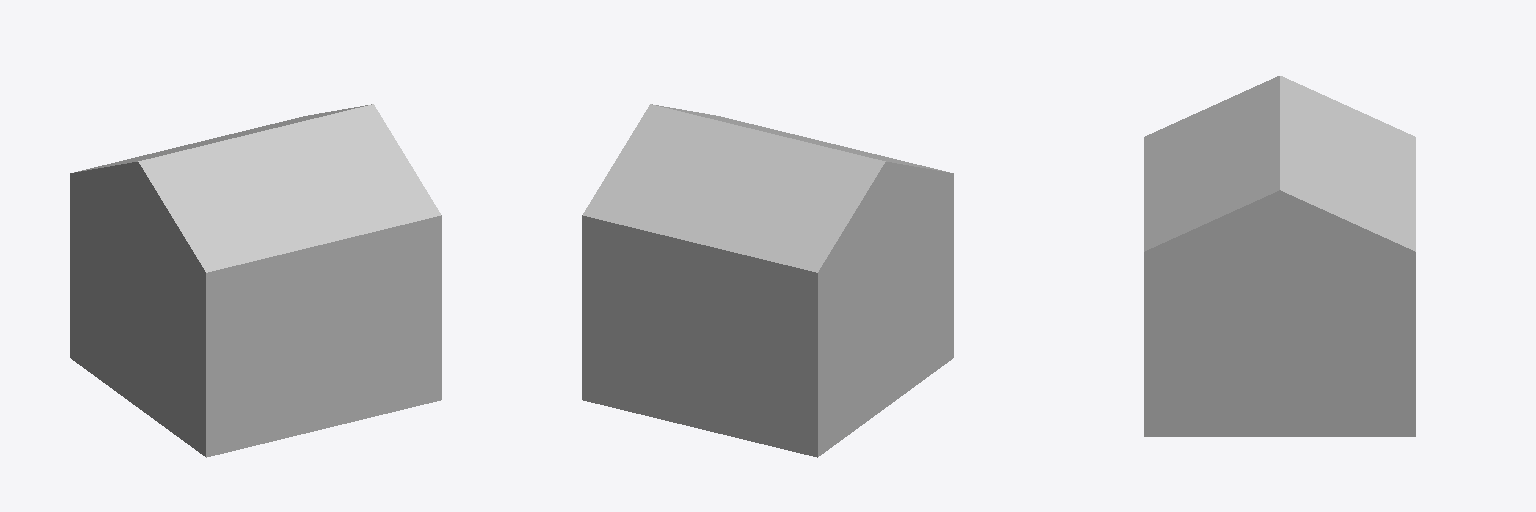
Rendered from museu.obj.
The picture shows the model from 3 angles: view 1: azimuth 30°, elevation 25°; view 2: azimuth 150°, elevation 25°; view 3: azimuth 270°, elevation 25°; orthographic projection.
Parts seen in each view (by area): view 1: museu; view 2: museu; view 3: museu.
Part boxes in pixels (bbox=[...]): museu: bbox=[70, 104, 441, 457]; museu: bbox=[582, 104, 953, 457]; museu: bbox=[1144, 76, 1415, 436].
Bounding box in the file's own units: 2 × 2 × 2.